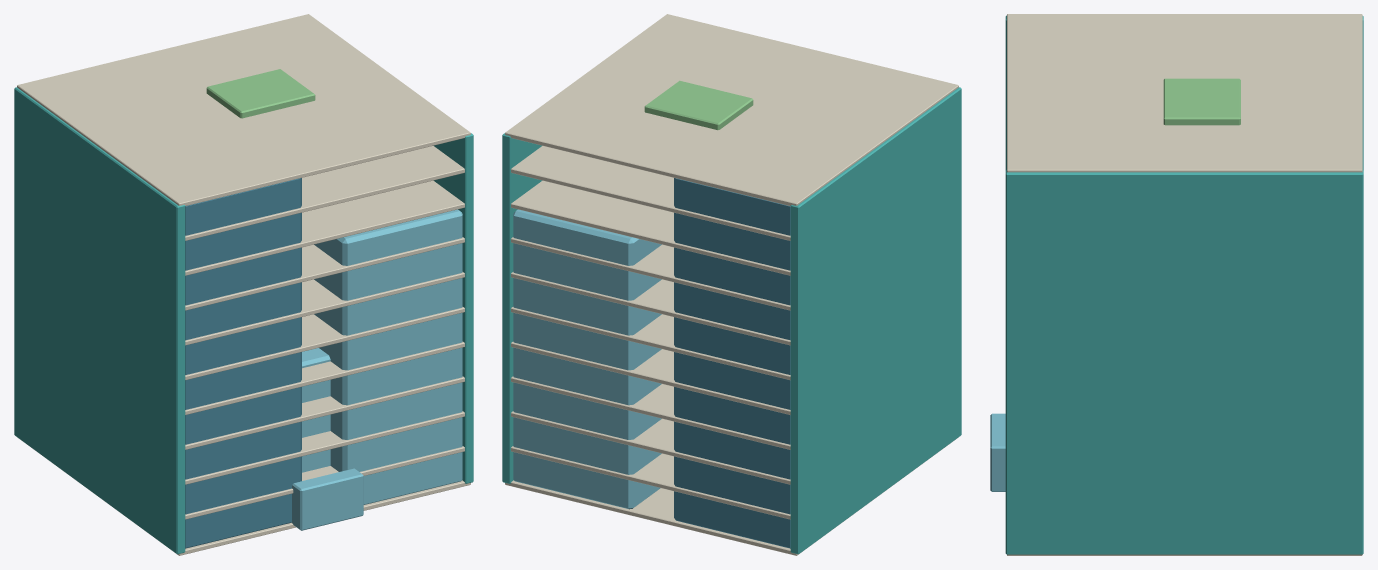
The model's file is OFF_MID_3x3_003.glb.
3 renders of one model, left to right at view 1: azimuth 30°, elevation 25°; view 2: azimuth 150°, elevation 25°; view 3: azimuth 270°, elevation 25°, orthographic. The views are drawn at different scales.
Visible parts, largest first — view 1: OFF_MID_3x3_003_Visual; view 2: OFF_MID_3x3_003_Visual; view 3: OFF_MID_3x3_003_Visual.
Boxes of the visible parts, x1,y1,x2,y2 form: OFF_MID_3x3_003_Visual: [14, 14, 473, 555]; OFF_MID_3x3_003_Visual: [502, 14, 961, 555]; OFF_MID_3x3_003_Visual: [990, 14, 1363, 555].
Size of what is drawn, in the model's own units: 5.36 by 6.19 by 5.32.
